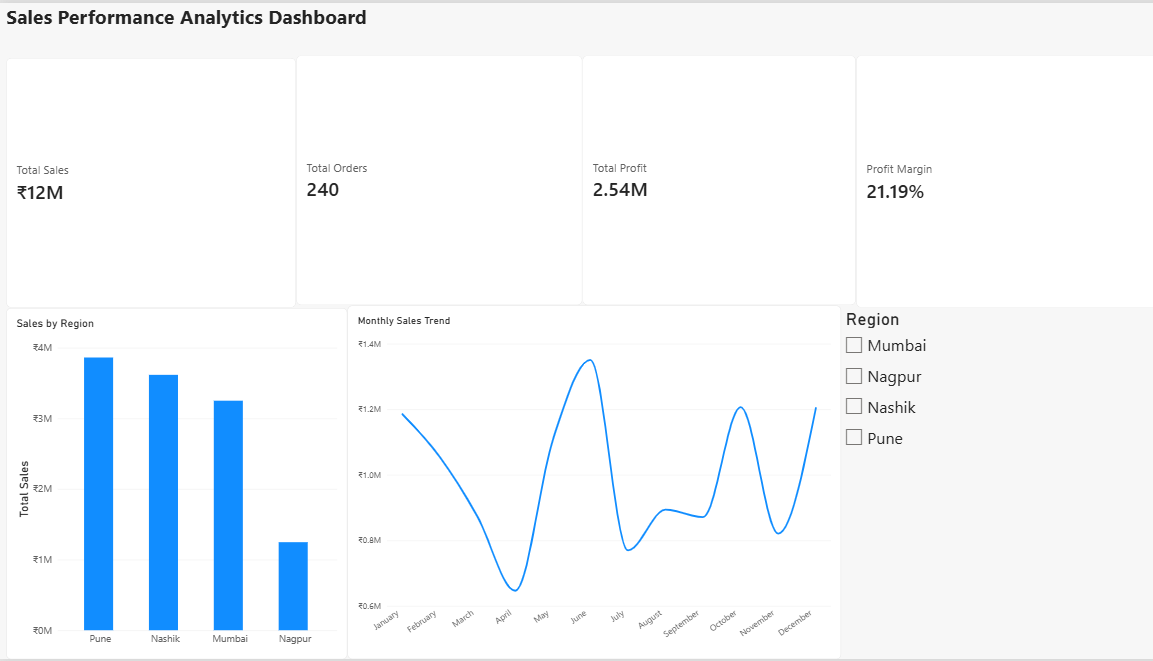

Layout of this report page (visuals, bound fields, positions):
{"tool":"powerbi","page":{"name":"Page 1","canvas":[1920,1080],"ordinal":0},"visuals":[{"type":"cardVisual","fields":{"Data":["Sales.Total Sales"]},"box":[10.3,90.6,477.5,411.7],"z":0},{"type":"clusteredColumnChart","title":"Sales by Region","fields":{"Category":["Sales.Region"],"Y":["Sales.Total Sales"]},"box":[10.3,502.2,561.9,578.4],"z":2},{"type":"lineChart","title":"Monthly Sales Trend","fields":{"Category":["DateTable.Month Name"],"Y":["Sales.Total Sales"]},"box":[572.2,498.1,813,582.5],"z":3},{"type":"cardVisual","fields":{"Data":["Sales.Total Orders"]},"box":[487.8,86.4,471.4,411.7],"z":4},{"type":"cardVisual","fields":{"Data":["Sales.Total Profit"]},"box":[959.2,86.4,450.8,411.7],"z":5},{"type":"cardVisual","fields":{"Data":["Sales.Profit Margin"]},"box":[1410,86.4,510.5,415.8],"z":6},{"type":"slicer","fields":{"Values":["Sales.Region"]},"box":[1385.3,502.2,535.2,578.4],"z":7},{"type":"textbox","box":[10.3,0,1399.7,86.4],"z":8}]}

Visuals, with their boxes in screenshot pixels (x1, y1, x2, y2), scaled from the page's 1920x1080 canvas onto the 1153x661 screenshot:
cardVisual - Sales.Total Sales: 6 55 293 307
"Sales by Region" clusteredColumnChart: 6 307 344 660
"Monthly Sales Trend" lineChart: 344 305 832 660
cardVisual - Sales.Total Orders: 293 53 576 305
cardVisual - Sales.Total Profit: 576 53 847 305
cardVisual - Sales.Profit Margin: 847 53 1152 307
slicer - Sales.Region: 832 307 1152 660
textbox: 6 0 847 53
